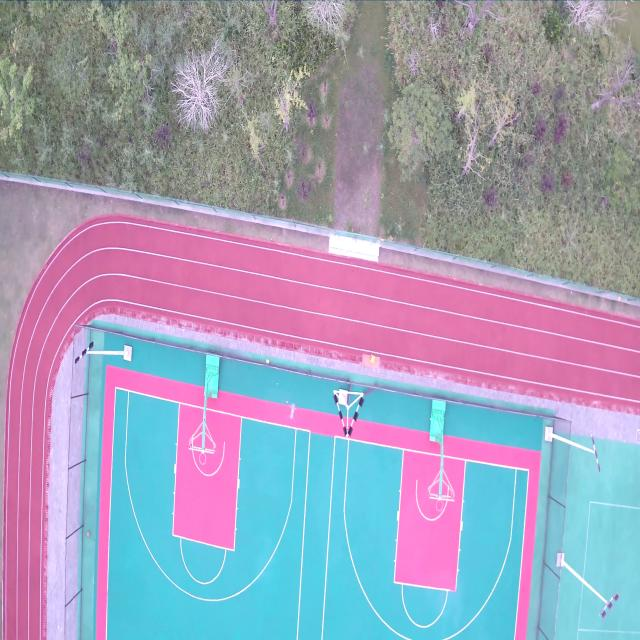UAV: (285, 399, 298, 423)
